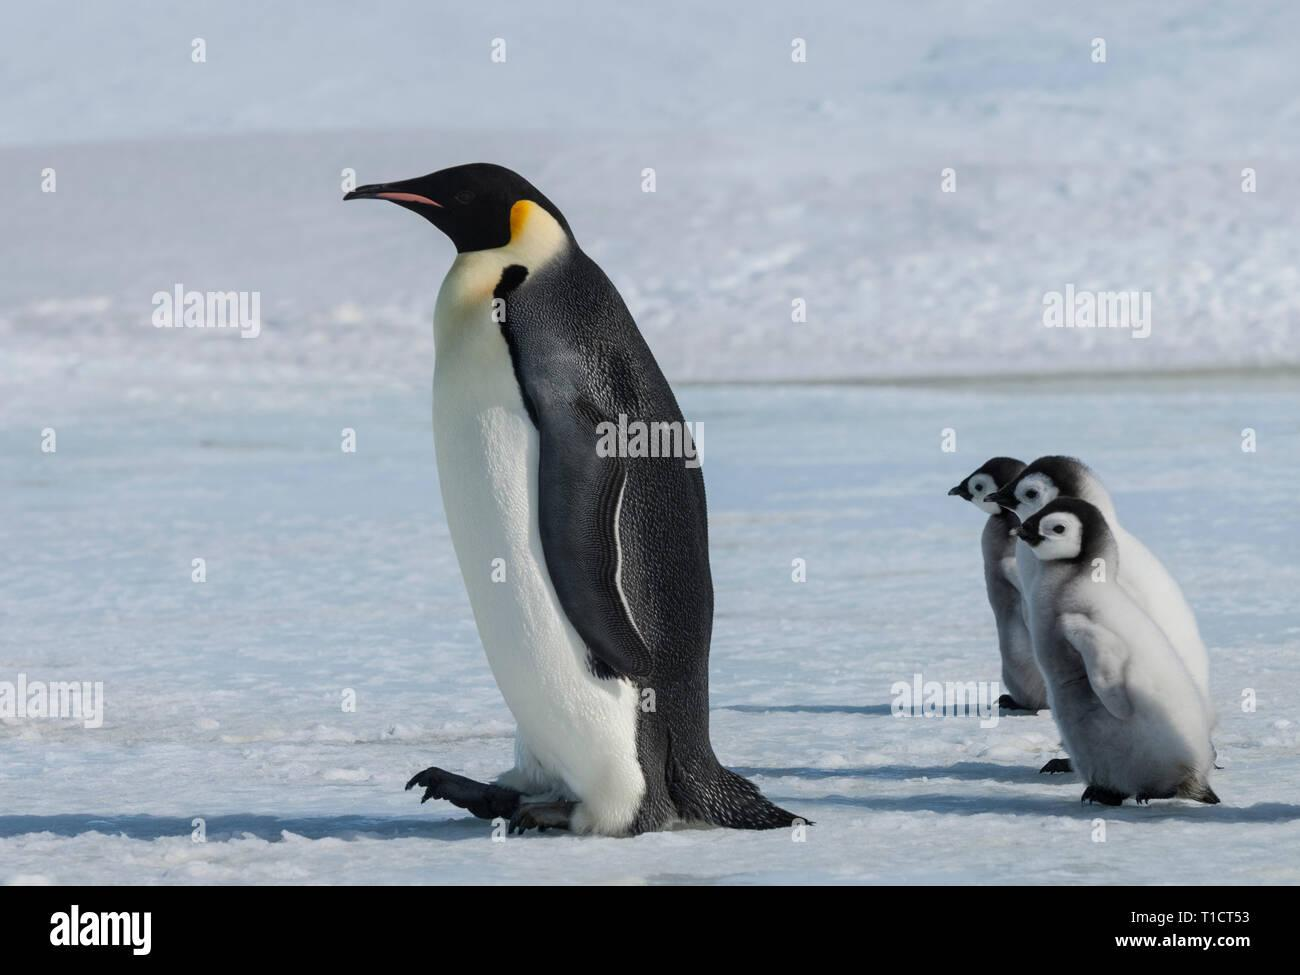emporer: (327, 136, 822, 861)
